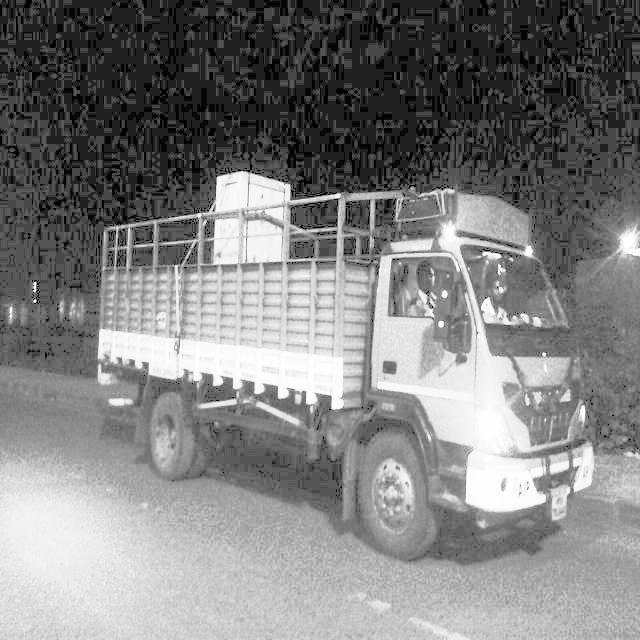Truck: (94, 170, 595, 561)
